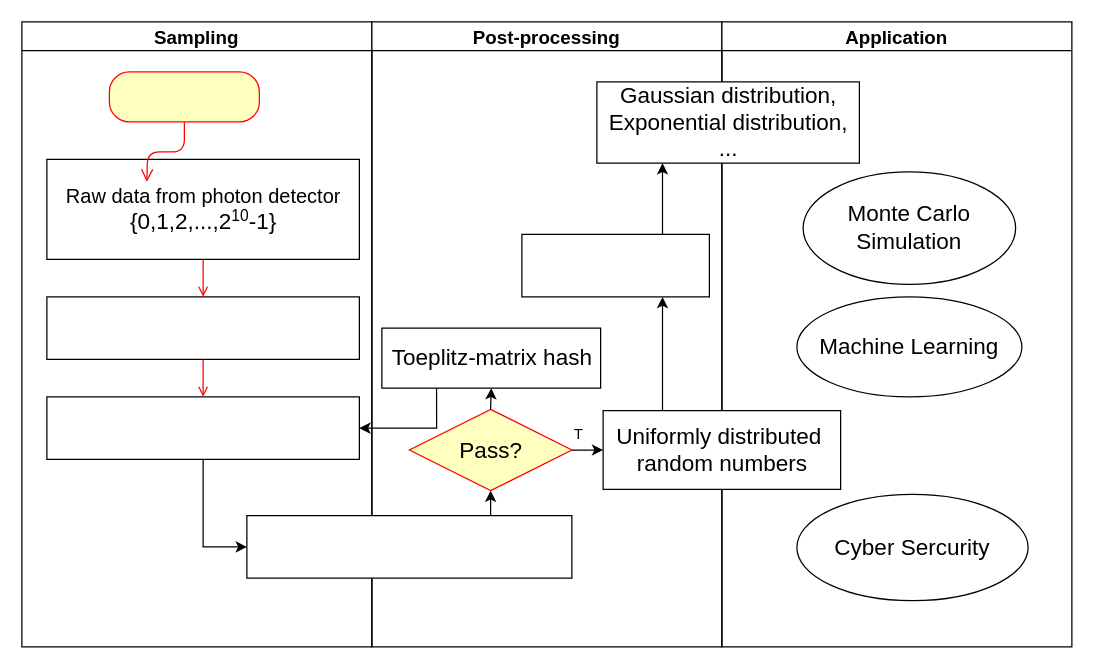
Some shapes in this 1094 by 669 pixel diagram are drawn without their labels. Each missing label, with the centre of its shape:
"10-bit binary numbers" belongs at [202,327].
"NIST Statistic Test Suite" belongs at [409,546].
"QRNG" belongs at [183,96].
"random binary sequence" belongs at [202,427].
"Ziggurat" belongs at [615,265].
